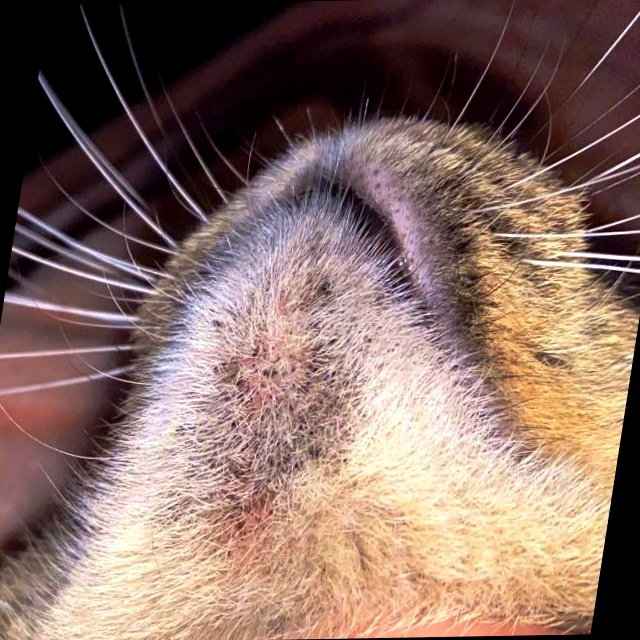acne: (172, 223, 395, 552)
